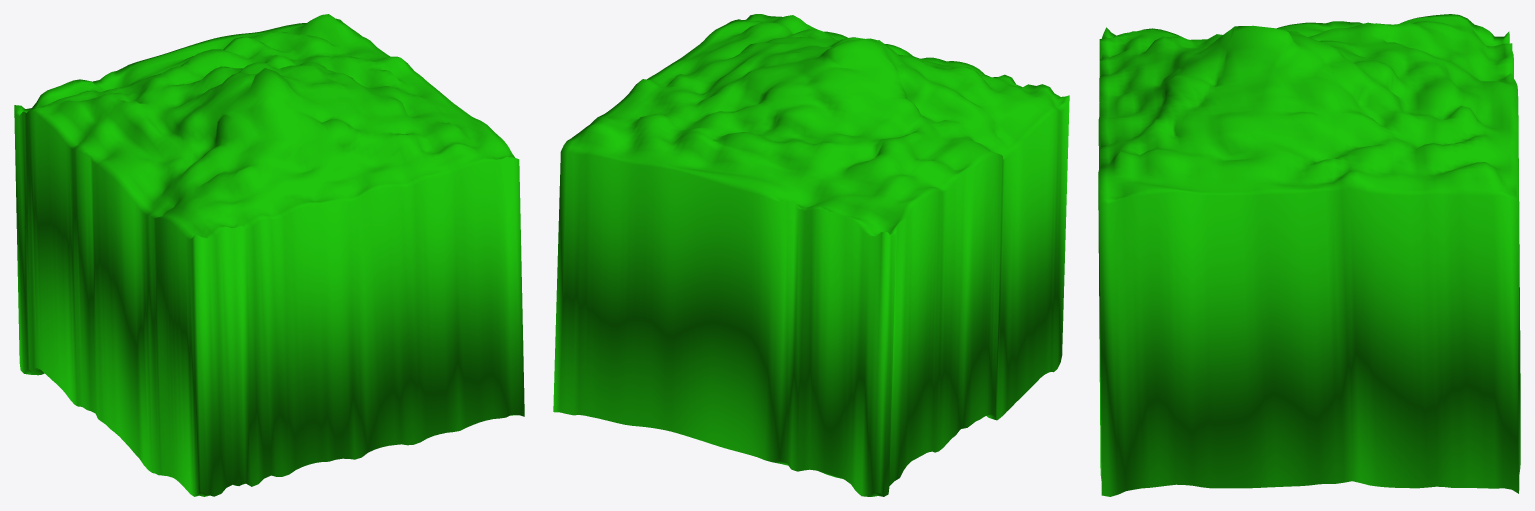
File: groud1.glb
The picture shows the model from 3 angles, left to right: view 1: azimuth 30°, elevation 25°; view 2: azimuth 150°, elevation 25°; view 3: azimuth 270°, elevation 25°; orthographic projection. The views are drawn at different scales.
Visible parts, largest first — view 1: グリッド; view 2: グリッド; view 3: グリッド.
Boxes of the visible parts, x1,y1,x2,y2 form: グリッド: (14, 14, 524, 496); グリッド: (553, 14, 1069, 496); グリッド: (1098, 14, 1520, 496).
Bounding box in the file's own units: 40.82 × 41.16 × 40.2.
